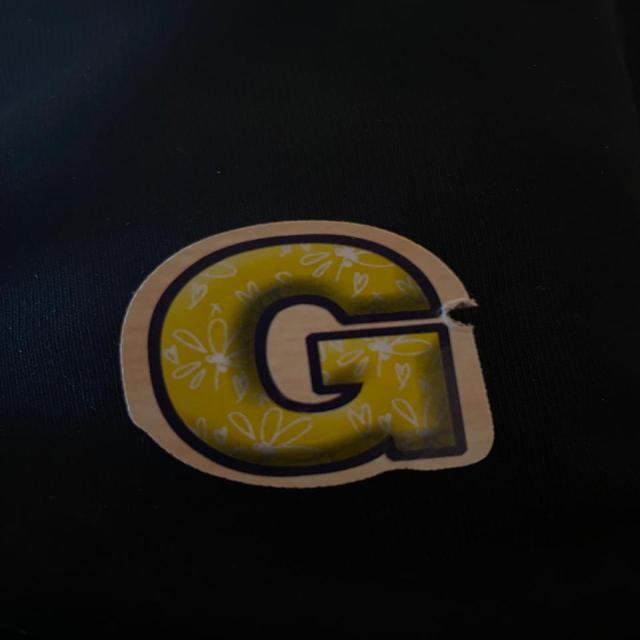G: (121, 220, 493, 487)
